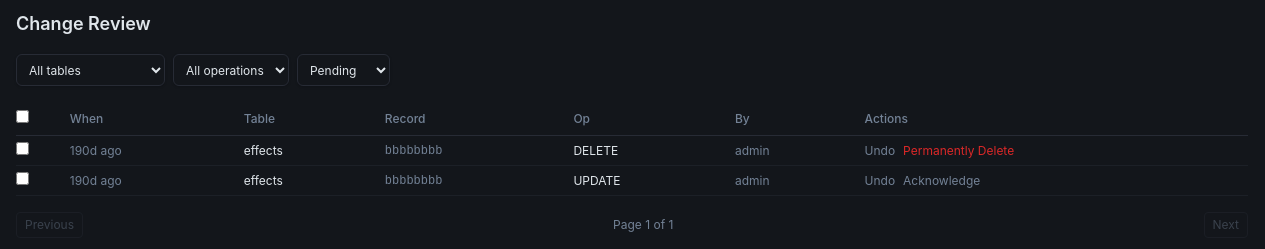
Test: ChangeReviewPage › shows inline error on 409 with detail message
The width and height of the screenshot is (1265, 249).
Click the button "Acknowledge".
click(942, 180)  # box [903,172,980,188]
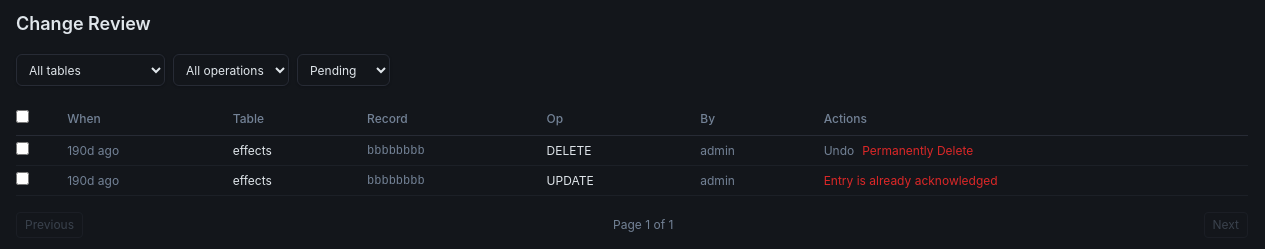
Expected: the text "Entry is already acknowledged" is shown, [824,172,998,188]
